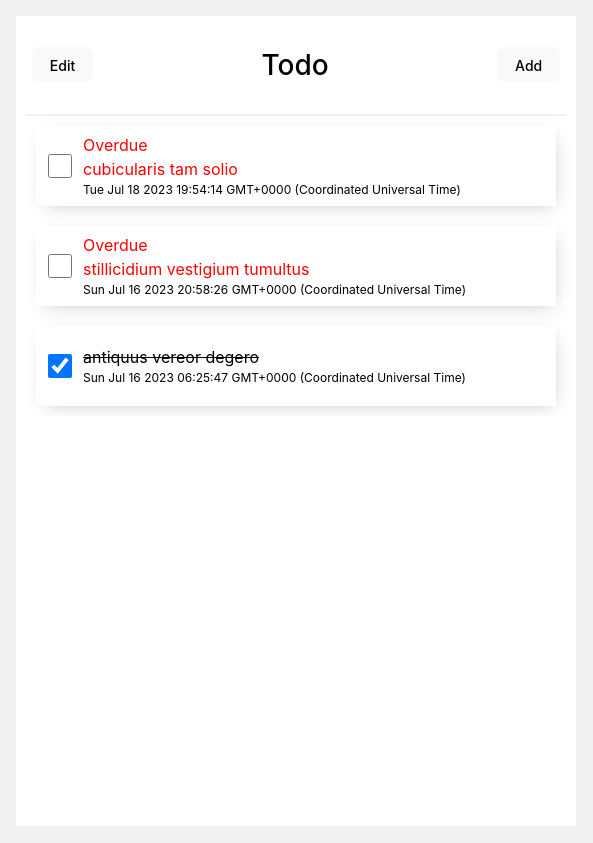
Test: Todo › should be editing
Expected: the heading "Todo" is shown, top-left (262, 51), bottom-right (329, 79)
Expected: the button "Add" is shown, top-left (497, 47), bottom-right (560, 82)
Click the button "Edit": (62, 65) top-left (32, 47), bottom-right (93, 82)
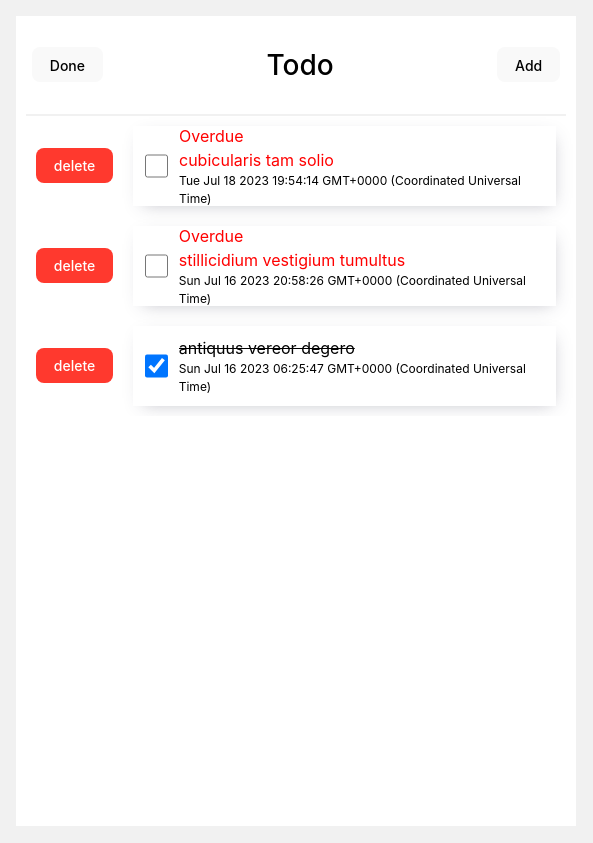
Expected: the button "Done" is shown, top-left (32, 47), bottom-right (103, 82)
Expected: the number of buttons "delete" is 3, top-left (36, 148), bottom-right (113, 183); top-left (36, 248), bottom-right (113, 283); top-left (36, 348), bottom-right (113, 383)
